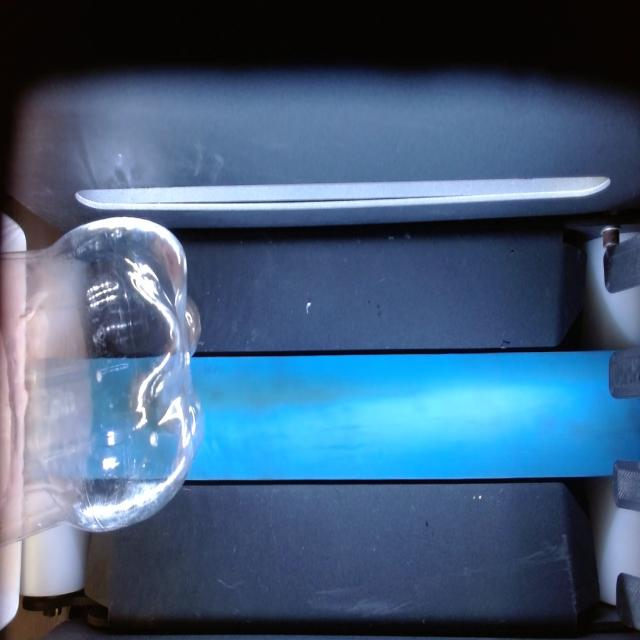bottom: (0, 218, 202, 543)
